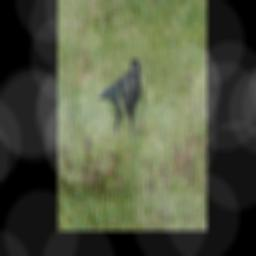Crow: (96, 59, 141, 139)
